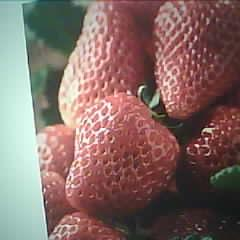straw-ripe: (66, 94, 177, 212), (154, 0, 240, 120)
